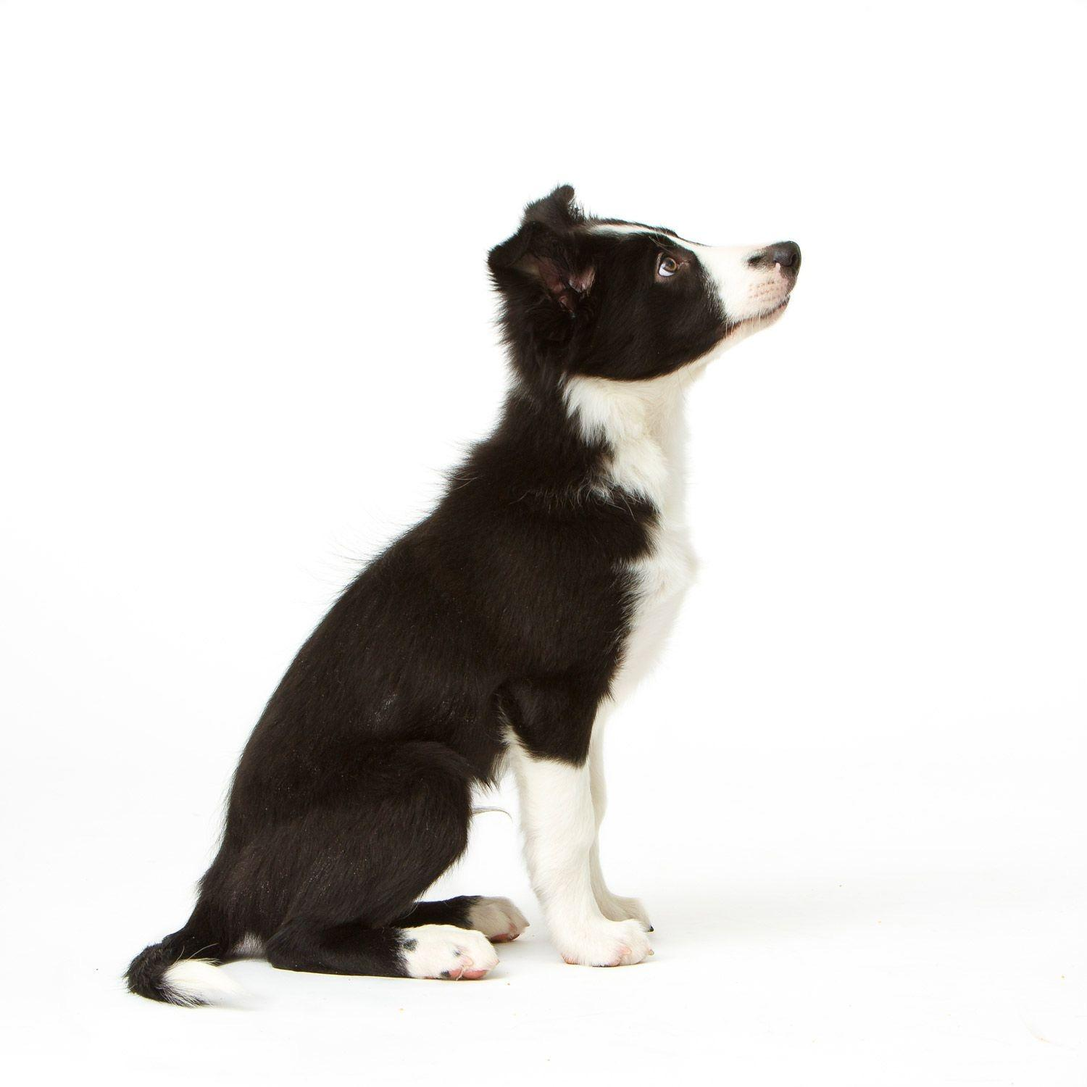puppy-dog: (126, 183, 804, 1006)
